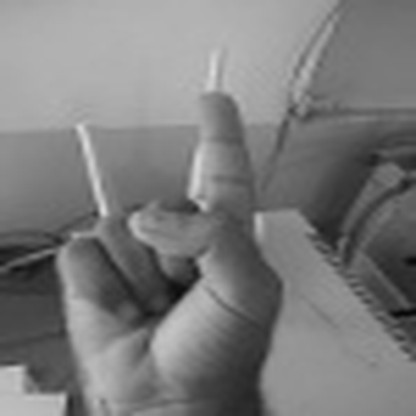d: (53, 91, 288, 396)
